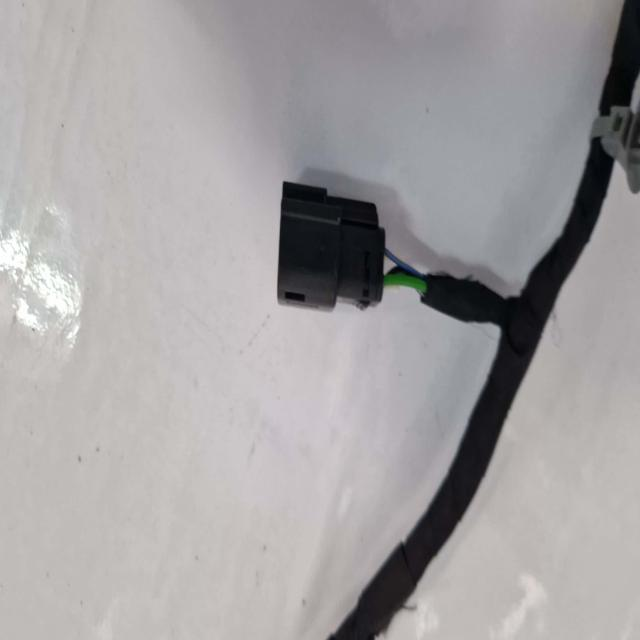Clip: (591, 107, 640, 193)
Connector: (278, 182, 385, 309)
Gape: (385, 229, 429, 306)
MHEV_N11_Cable: (332, 138, 614, 640), (600, 0, 640, 116)
